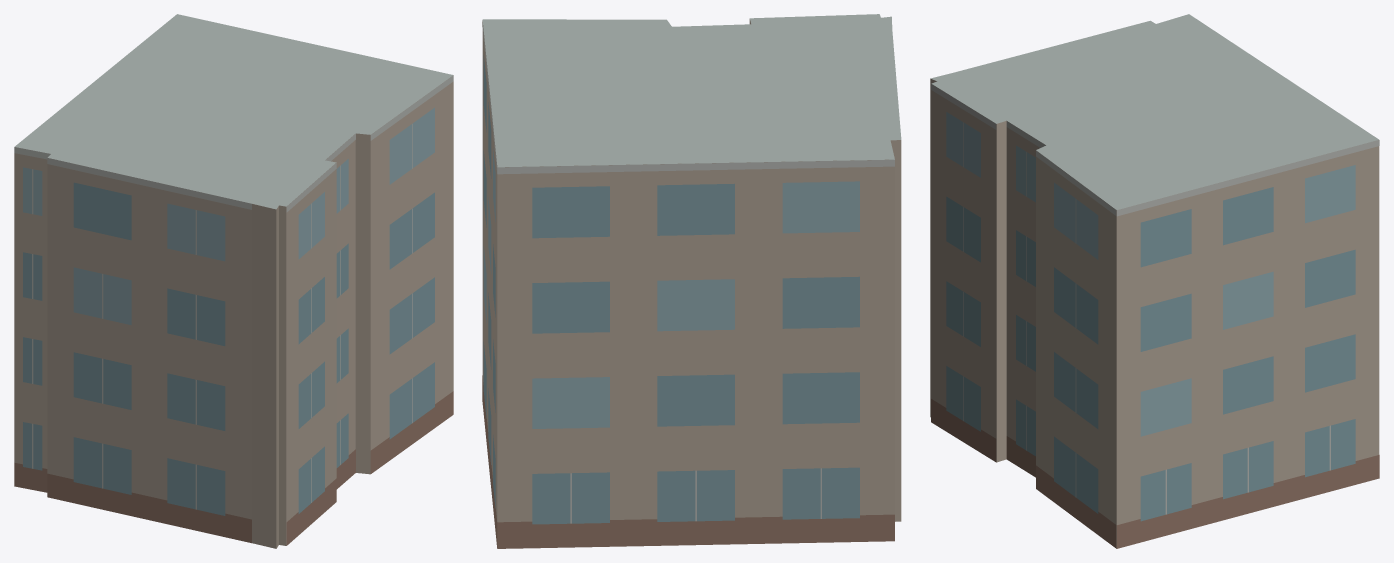
File: survey-upis-32625129.glb
3 views of the same model, side by side, from view 1: azimuth 30°, elevation 25°; view 2: azimuth 150°, elevation 25°; view 3: azimuth 270°, elevation 25° (orthographic). The views are drawn at different scales.
Visible parts, largest first — view 1: survey-upis-32625129.tmp; view 2: survey-upis-32625129.tmp; view 3: survey-upis-32625129.tmp.
Part boxes in pixels (x1=…): survey-upis-32625129.tmp: x1=14, y1=14, x2=453, y2=548; survey-upis-32625129.tmp: x1=482, y1=14, x2=901, y2=548; survey-upis-32625129.tmp: x1=930, y1=14, x2=1379, y2=548.
Size of the model in its own units: 16.54 by 13.3 by 15.99.
